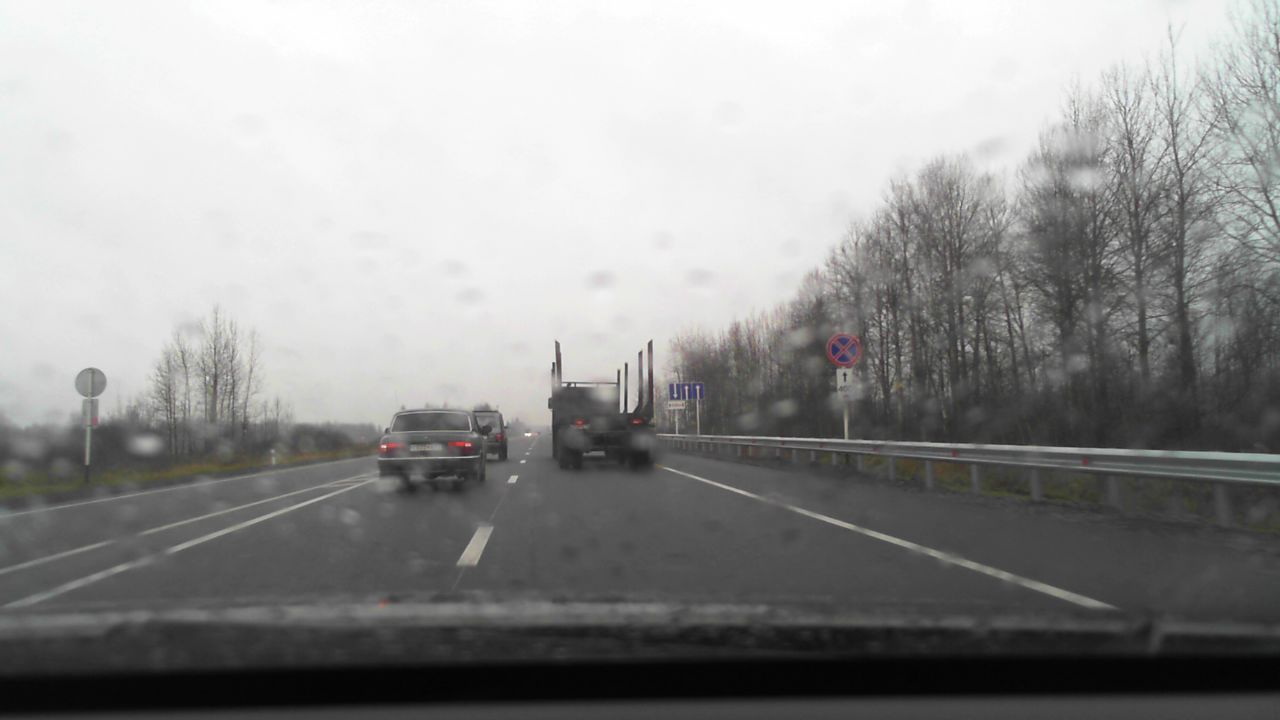No Parking: (825, 332, 861, 368)
